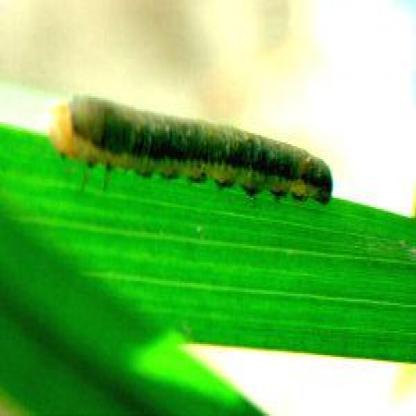sawfly: (45, 84, 341, 212)
